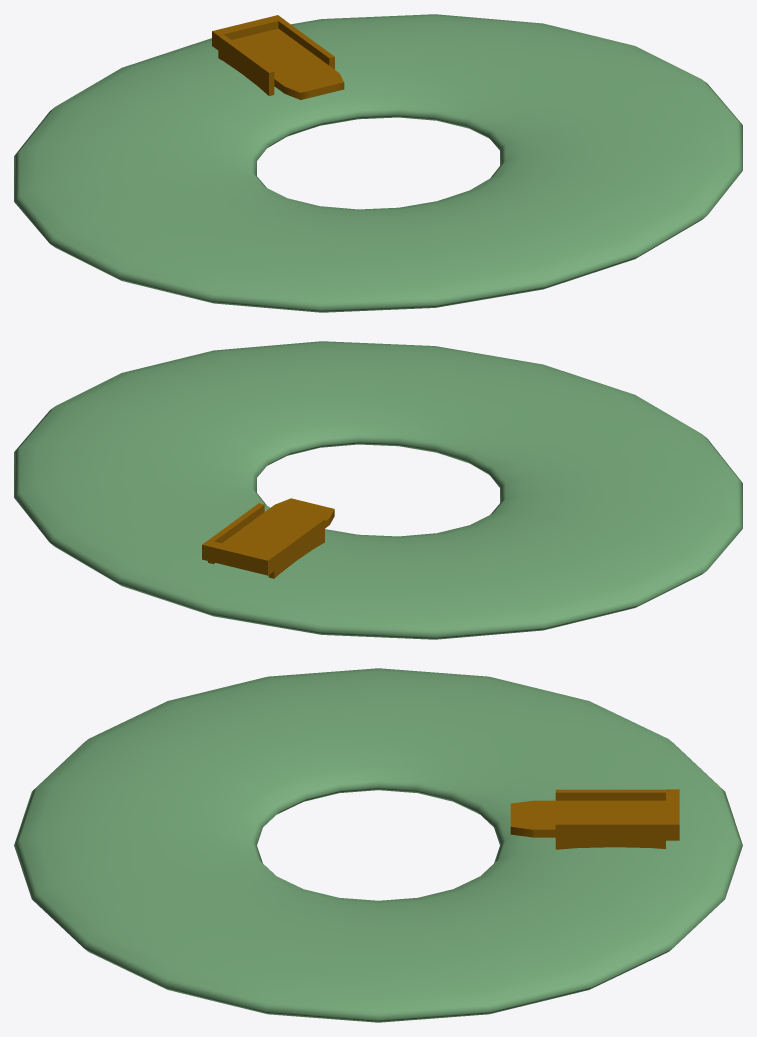
The model's file is Fishing_Landmass_Pier_Location.fbx.
3 views of the same model, one above another, from view 1: azimuth 30°, elevation 25°; view 2: azimuth 150°, elevation 25°; view 3: azimuth 270°, elevation 25° (orthographic). The views are drawn at different scales.
Parts seen in each view (by area): view 1: Land_Mass, Piers; view 2: Land_Mass, Piers; view 3: Land_Mass, Piers.
Part boxes in pixels (left/top/right/bottom): Land_Mass: left=14, top=14, right=742, bottom=312; Piers: left=212, top=15, right=344, bottom=99; Land_Mass: left=14, top=341, right=742, bottom=639; Piers: left=202, top=498, right=334, bottom=578; Land_Mass: left=14, top=668, right=742, bottom=1022; Piers: left=510, top=789, right=679, bottom=849.
Size of the model in its own units: 116 by 9.24 by 102.
